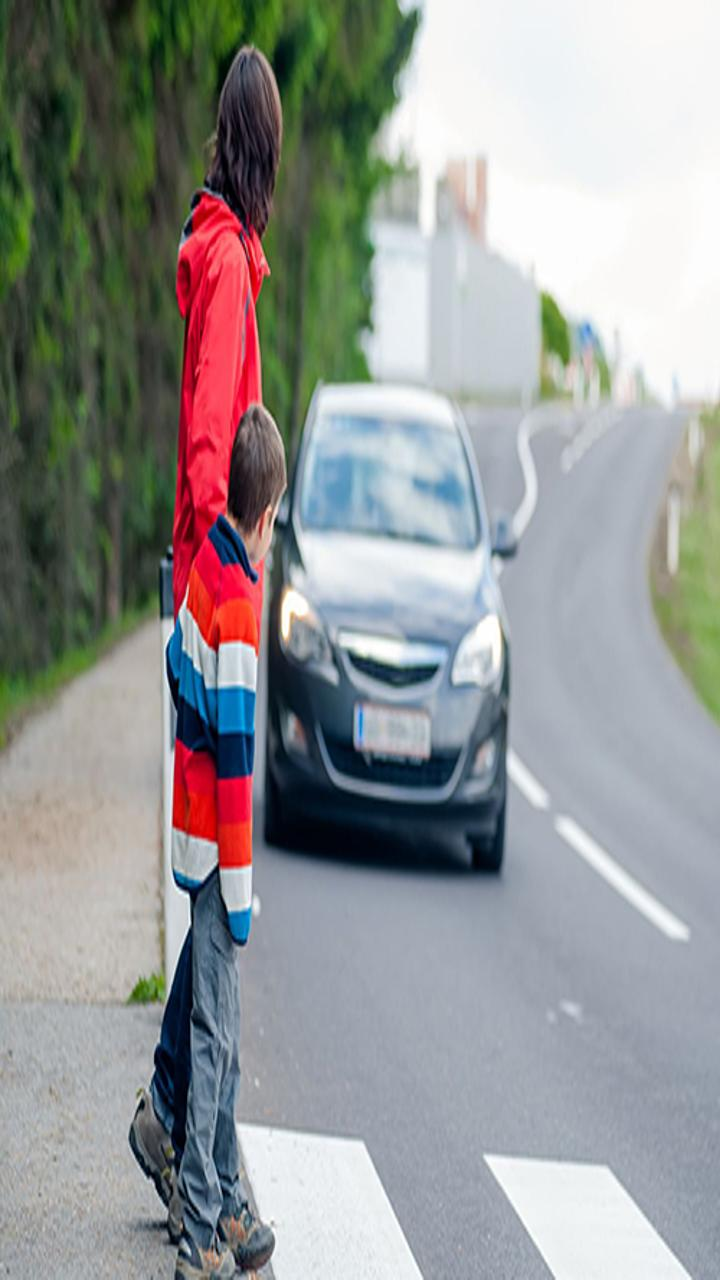pedestrian: (122, 409, 323, 1279), (142, 46, 343, 916)
vehicle: (267, 352, 532, 899)
